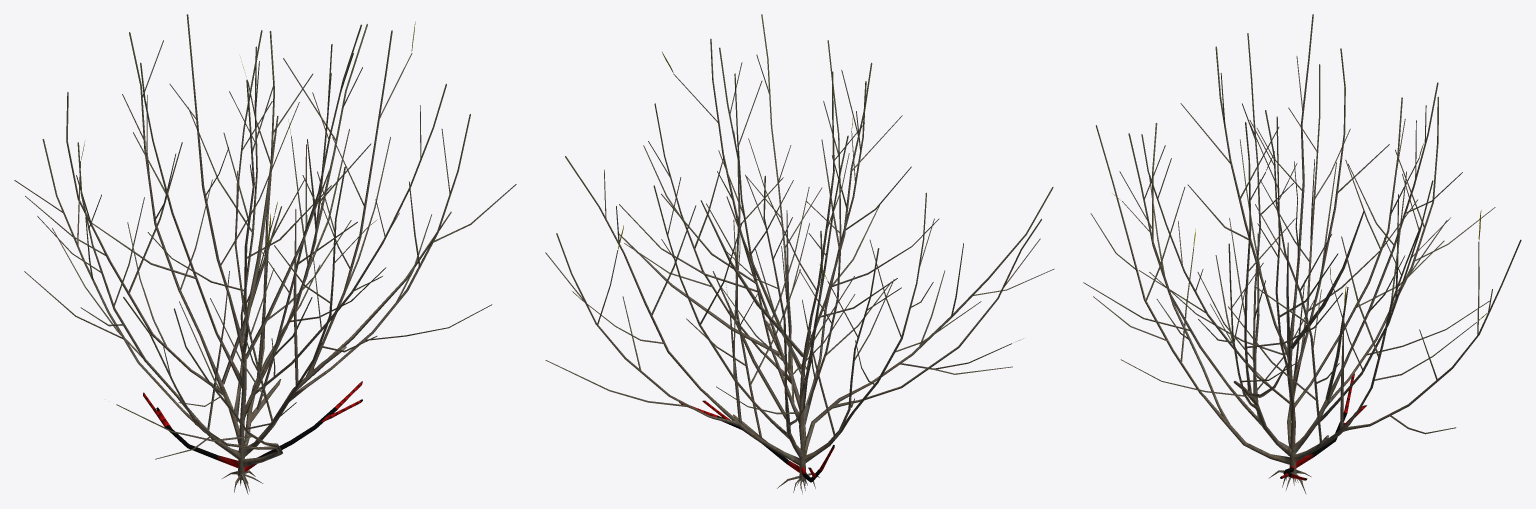
Rendered from Salix elaeagnos HD_Damaged winter mat 0_LOD2.fbx.
3 views of the same model, side by side, from view 1: azimuth 30°, elevation 25°; view 2: azimuth 150°, elevation 25°; view 3: azimuth 270°, elevation 25° (orthographic). The views are drawn at different scales.
Parts seen in each view (by area): view 1: Salix_elaeagnos_HD; view 2: Salix_elaeagnos_HD; view 3: Salix_elaeagnos_HD.
Boxes of the visible parts, x1,y1,x2,y2 form: Salix_elaeagnos_HD: (14, 14, 516, 494); Salix_elaeagnos_HD: (545, 14, 1054, 494); Salix_elaeagnos_HD: (1083, 14, 1521, 494).
Bounding box in the file's own units: 0.4754 × 0.5184 × 0.4544.
